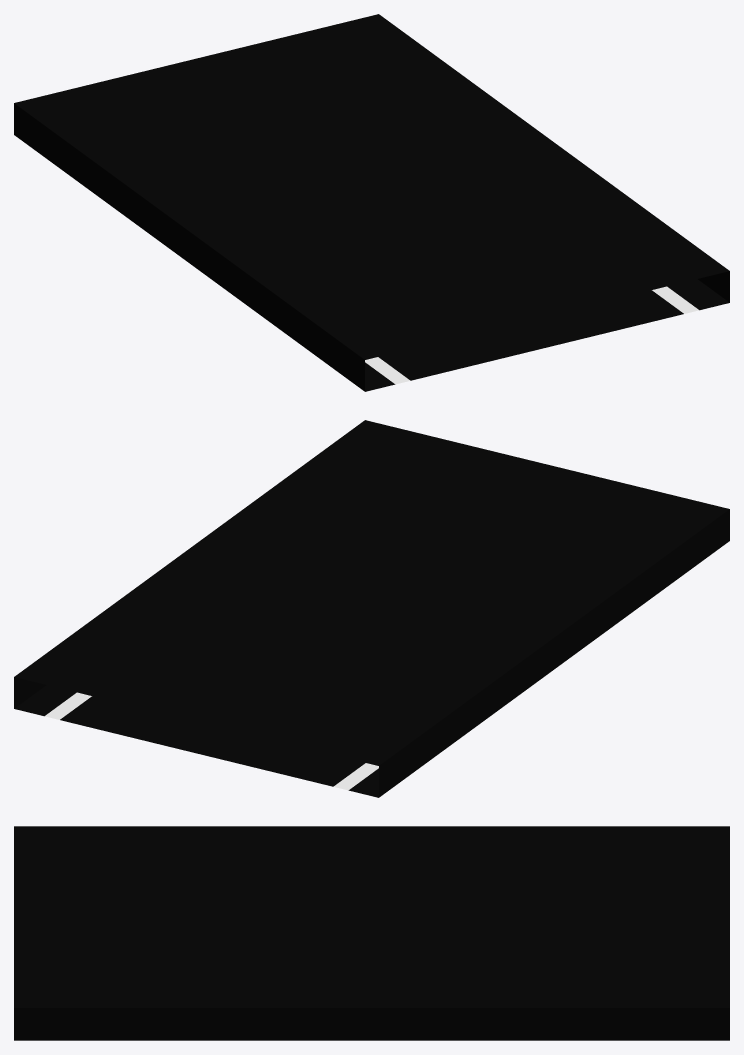
Rendered from Road.obj.
3 renders of one model, top to bottom at view 1: azimuth 30°, elevation 25°; view 2: azimuth 150°, elevation 25°; view 3: azimuth 270°, elevation 25°, orthographic.
Visible parts, largest first — view 1: StraightFIX_Cube.005; view 2: StraightFIX_Cube.005; view 3: StraightFIX_Cube.005.
Part boxes in pixels (<box>): StraightFIX_Cube.005: <box>14,14,729,391</box>; StraightFIX_Cube.005: <box>14,420,729,797</box>; StraightFIX_Cube.005: <box>14,826,729,1040</box>.
Bounding box in the file's own units: 12 × 1 × 20.
